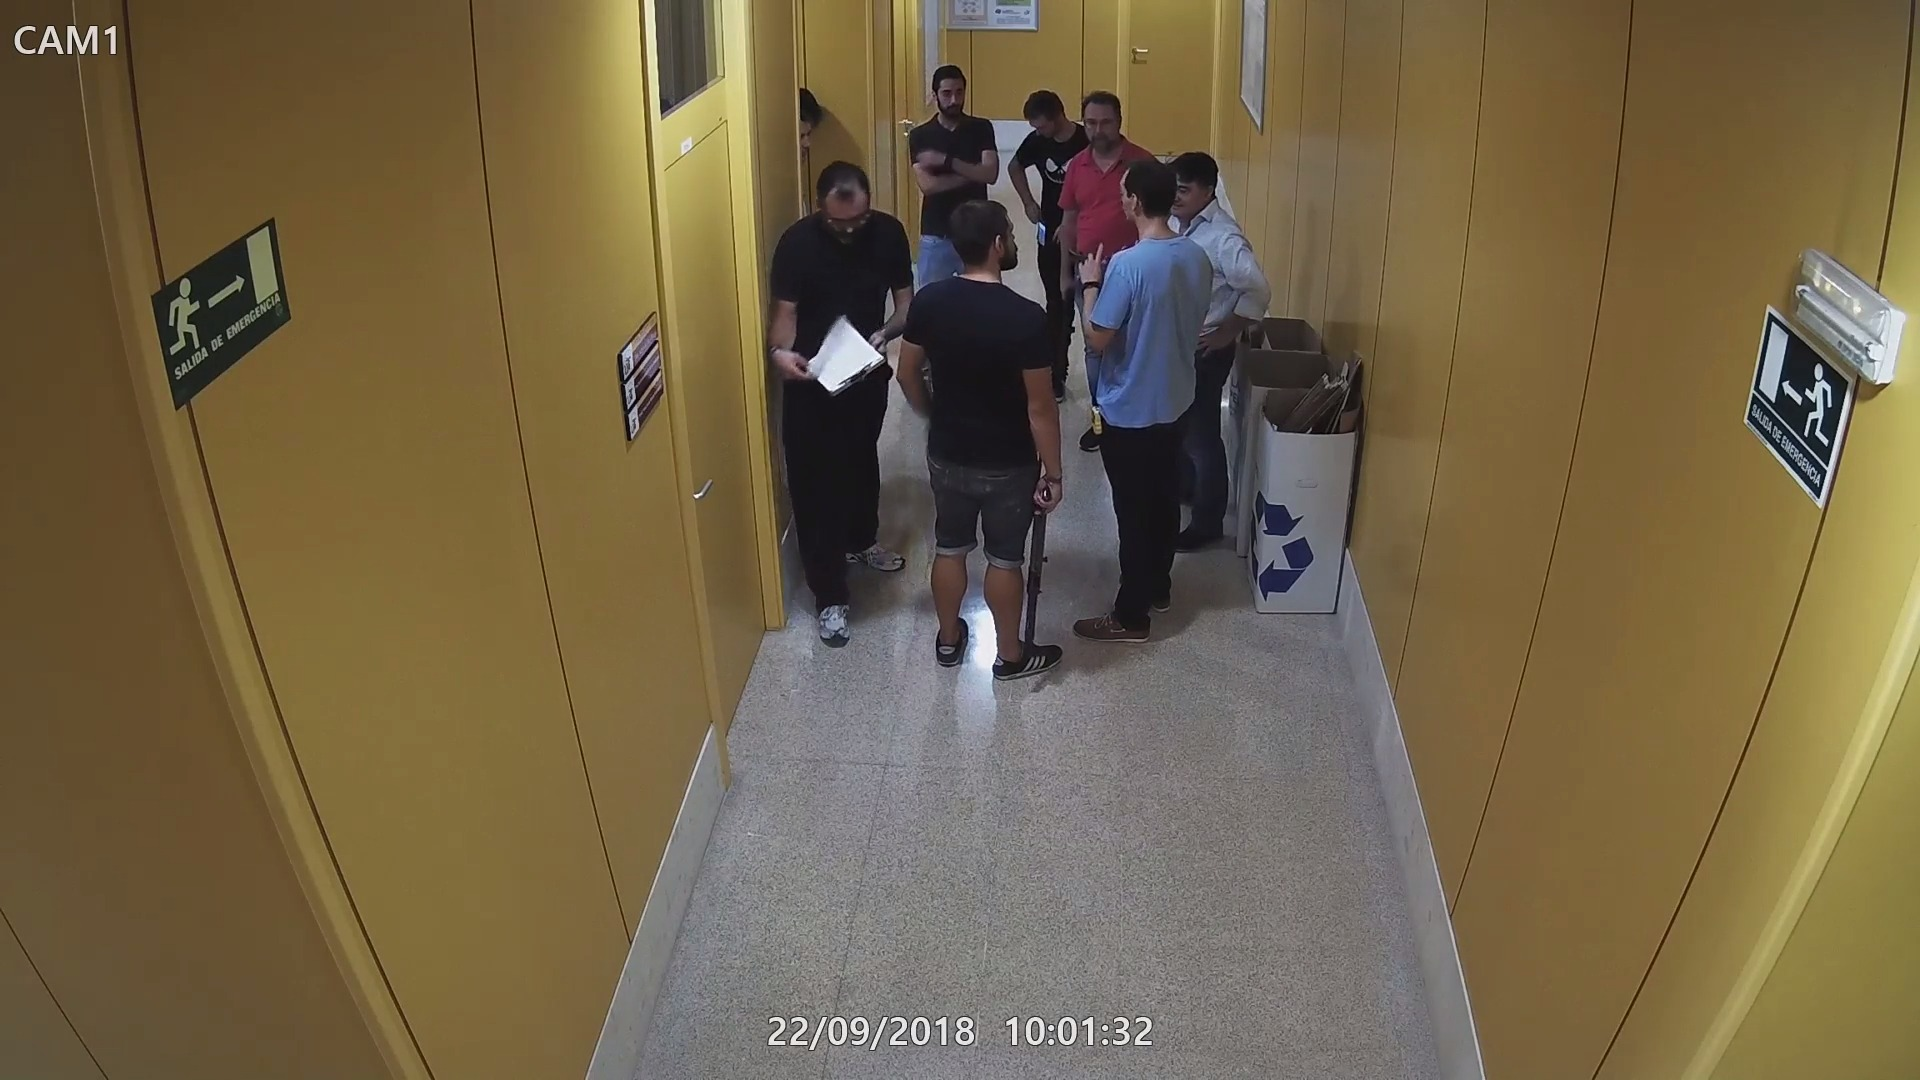Handgun: (1065, 247, 1091, 274)
Short_rifle: (1019, 481, 1059, 659), (1058, 273, 1084, 388)
